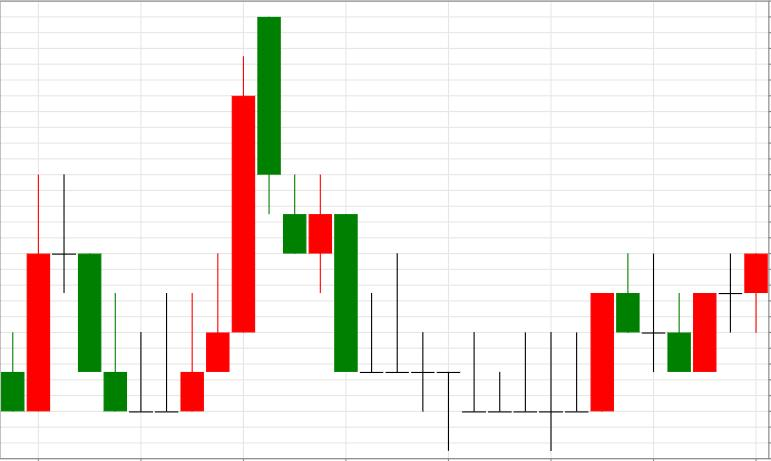three_white_soldiers_rise: (52, 57, 255, 415)
